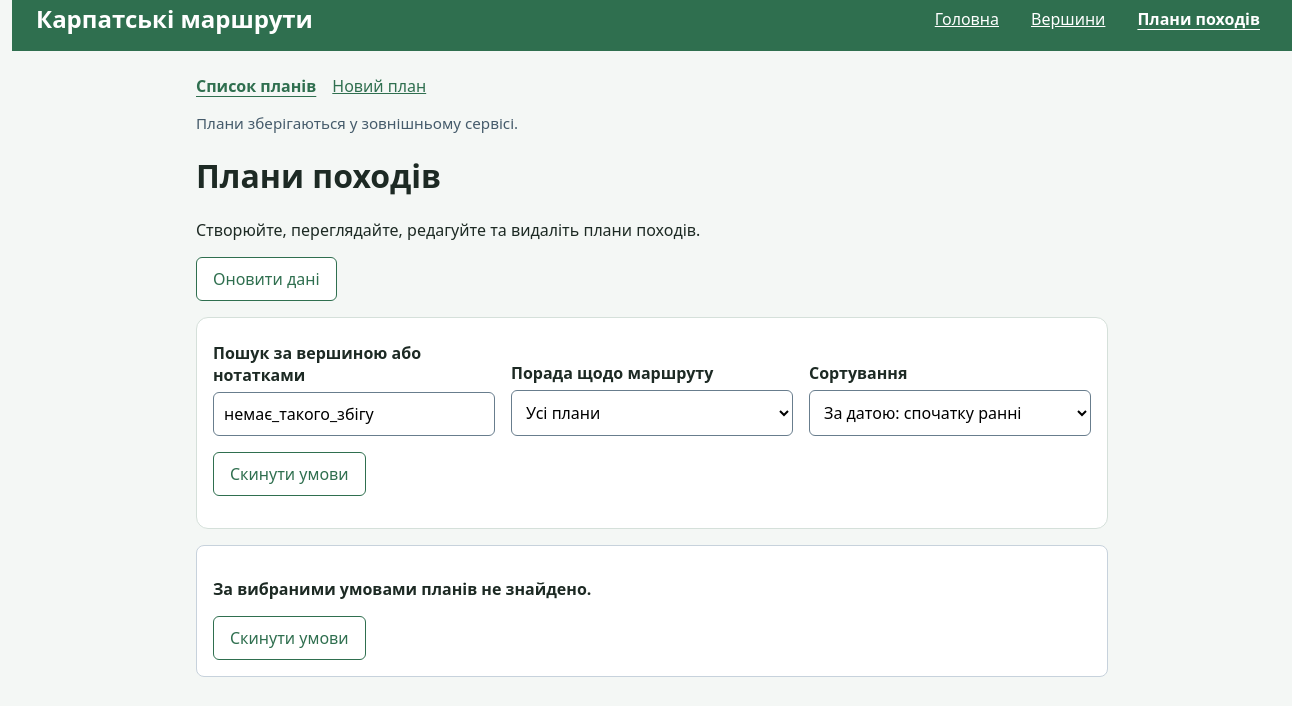
Test: умови списку без збігів не змінюють джерело, а скидання повертає запис
This screenshot has width=1292, height=706.
Expected: the text "За вибраними умовами планів не знайдено." is shown, [213, 578, 591, 600]
Click the button "Скинути умови" below "За вибраними умовами планів не знайдено.": x=289, y=638 [213, 616, 366, 660]
(page scrolled)
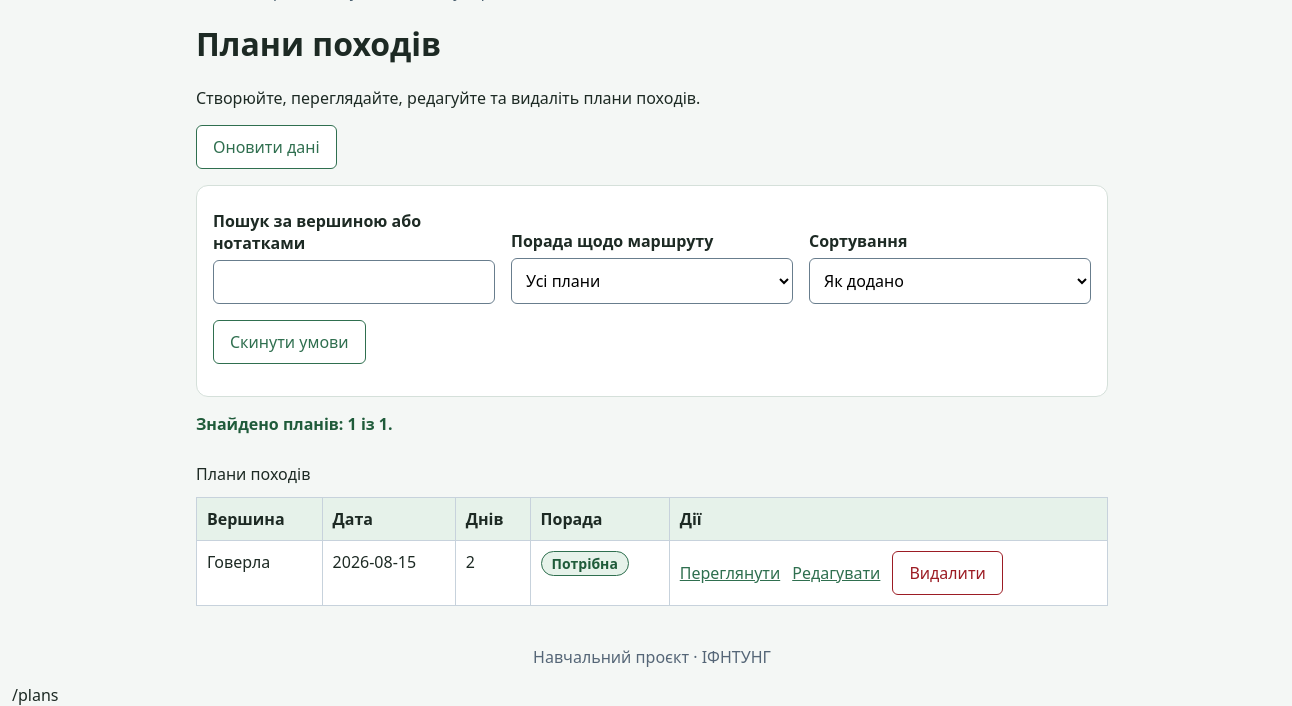
Expected: the cell "Говерла" is shown, [196, 540, 322, 605]
Expected: the text with test id "location" reads "/plans", [12, 684, 58, 705]
